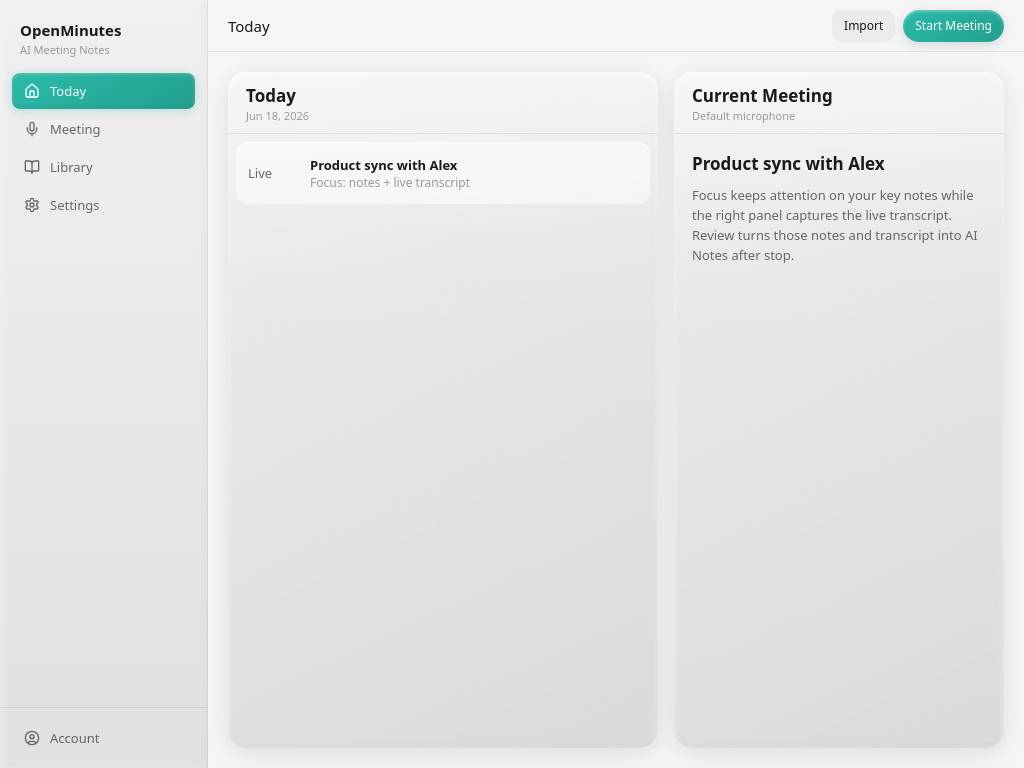
Test: App › links the Review document to the human note source
This screenshot has width=1024, height=768.
Click the button "Meeting".
click(104, 129)  # box [12,111,195,147]
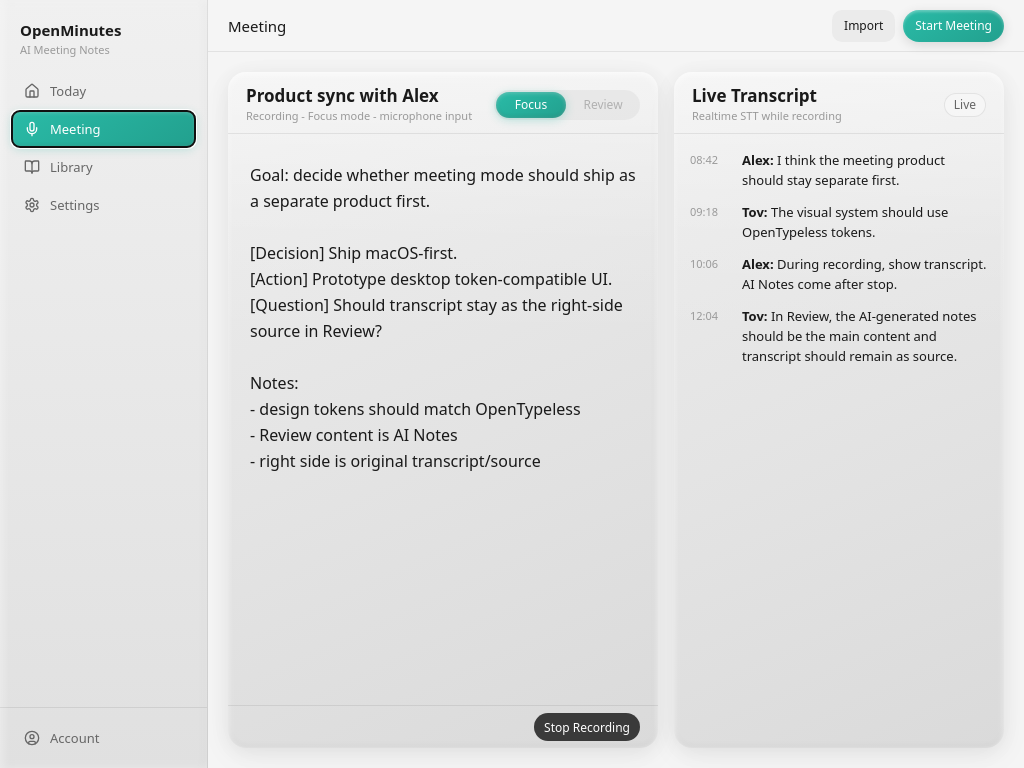
Click the button with aria-label "stop recording from meeting".
click(587, 727)  # box [534,713,640,741]
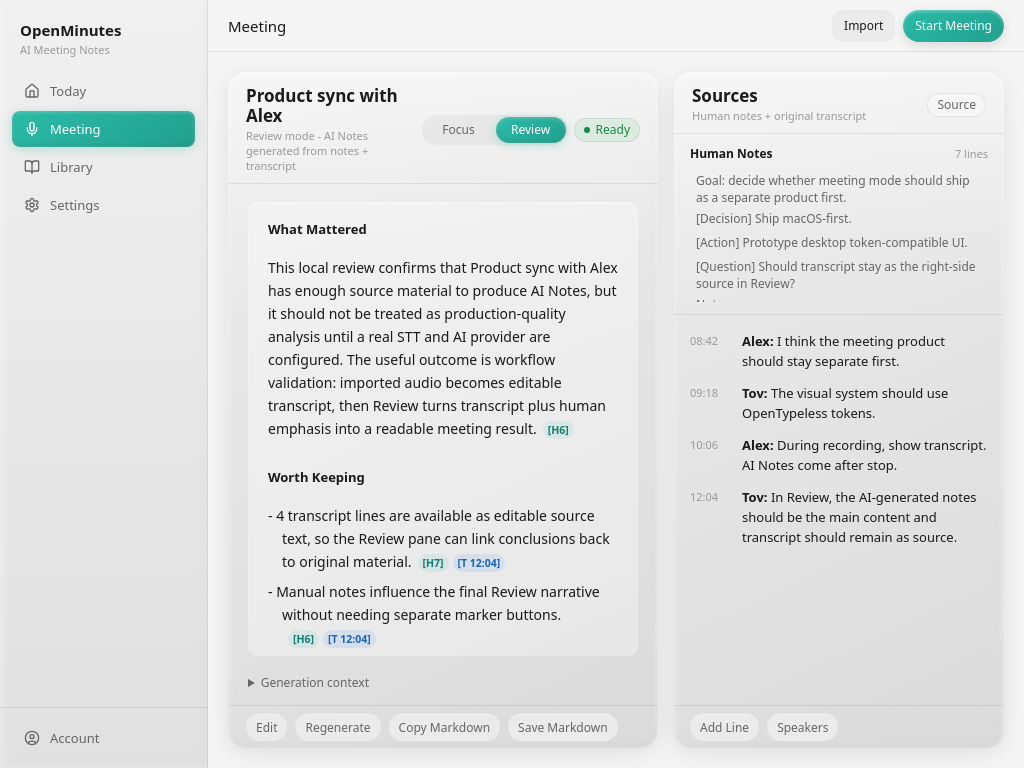
Expected: the 1st button "[H6]" is shown
Click the 1st button "[H6]".
click(558, 430)  # box [543,421,574,439]
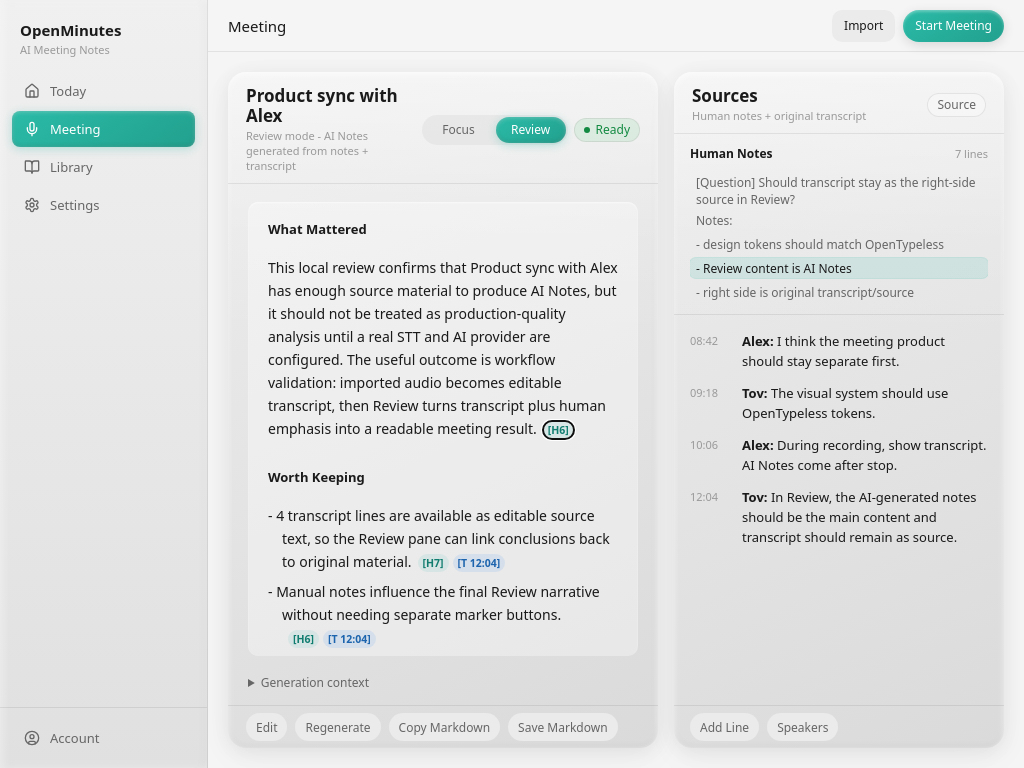
Expected: the element named "ai notes readable document" is shown, [248,202,638,656]
Expected: the text with class "selected-source" shows "Review content is AI Notes", [696,260,852,277]
